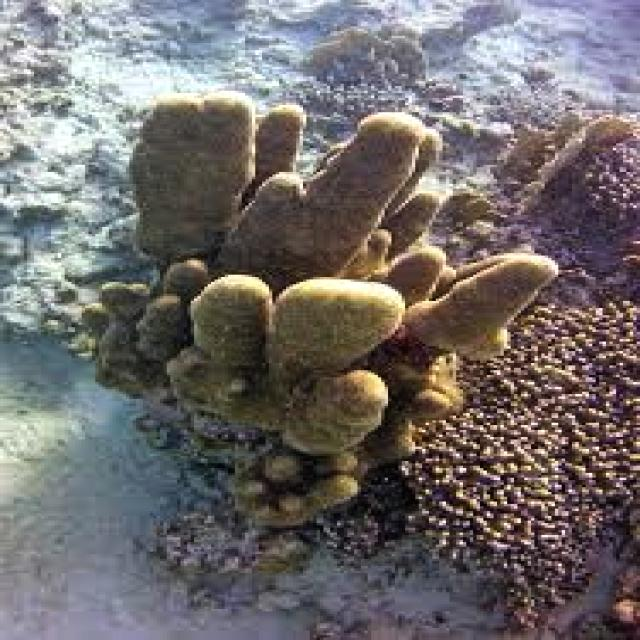Coral: (78, 88, 560, 534)
